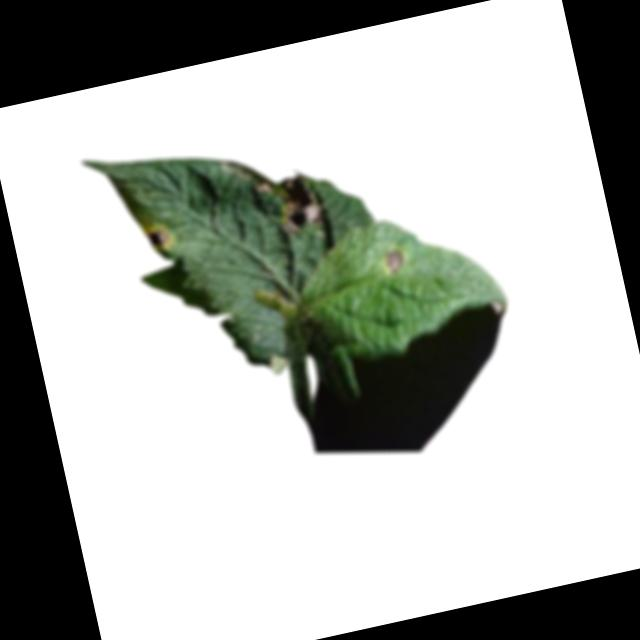Early_blight: (253, 166, 326, 240), (142, 221, 174, 253), (384, 247, 405, 276)
